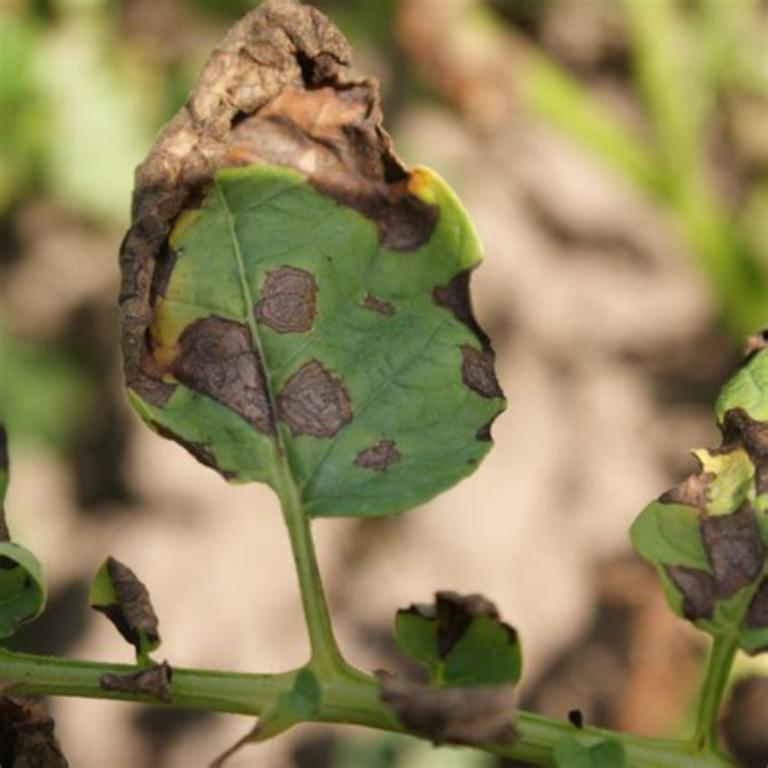blight: (110, 188, 370, 476)
